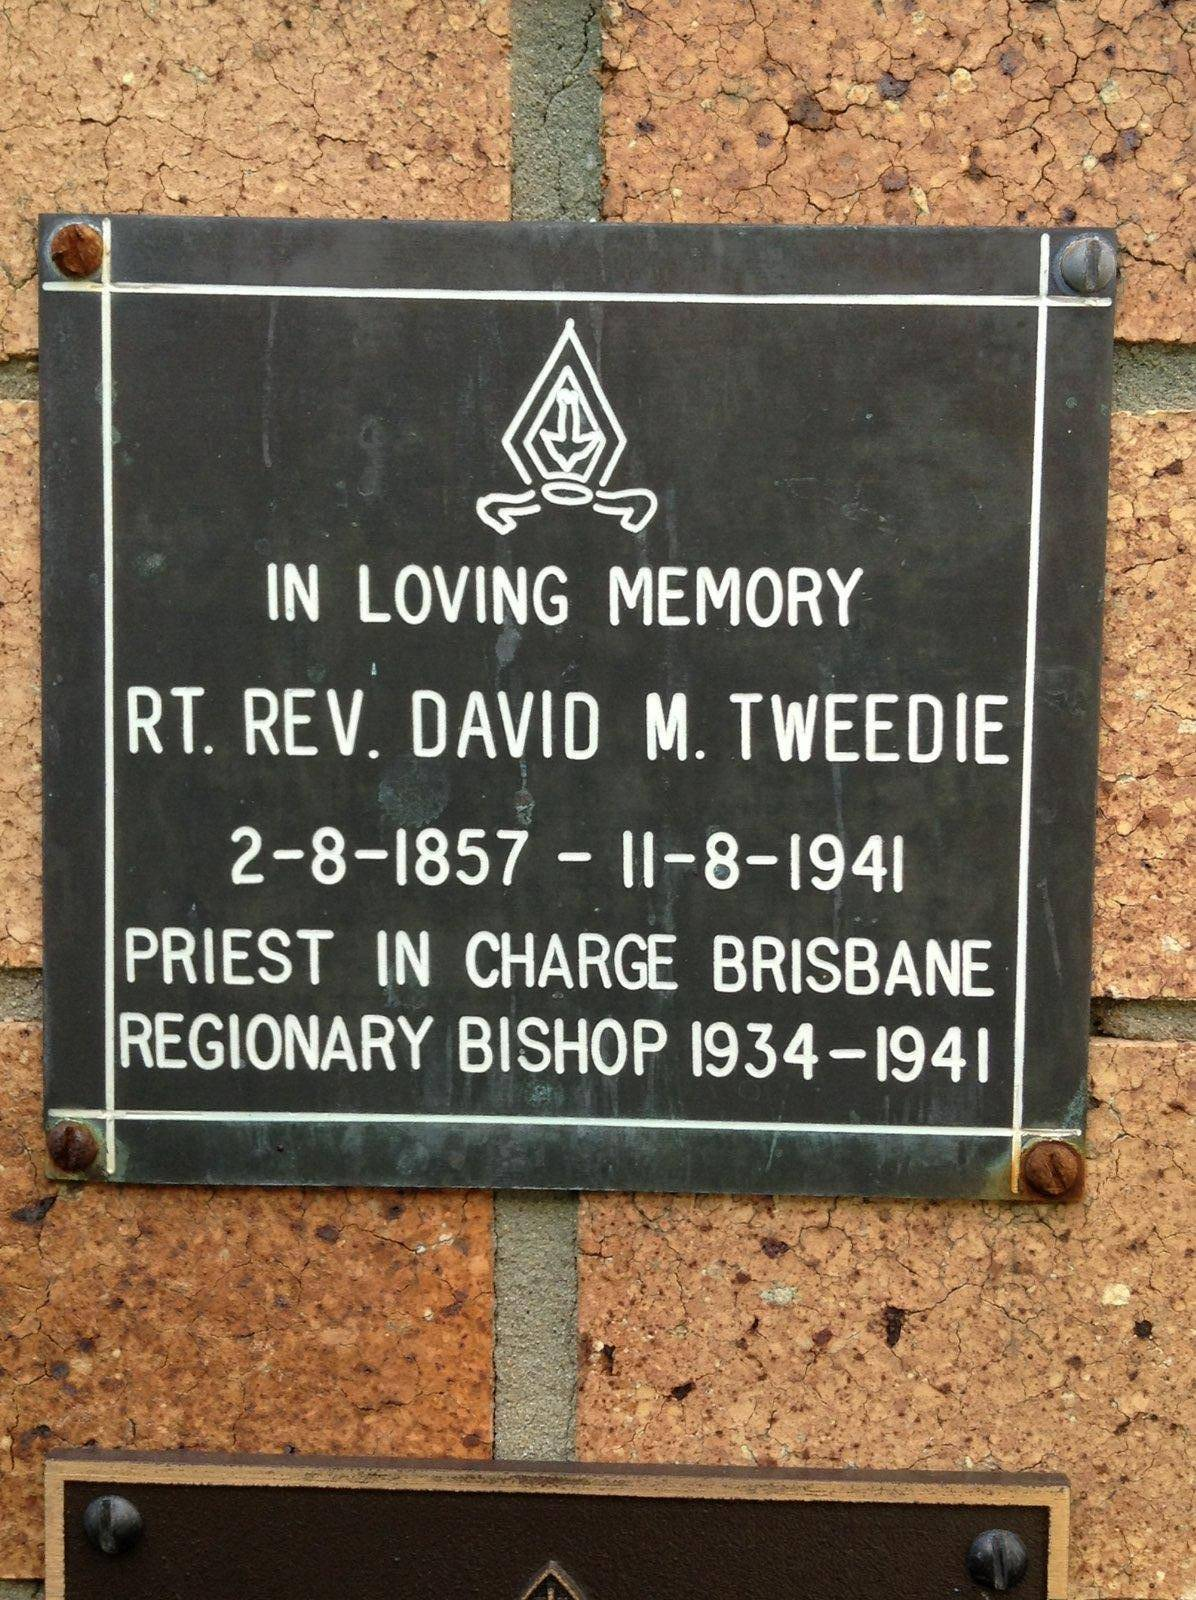plaque: (16, 193, 1114, 1233)
